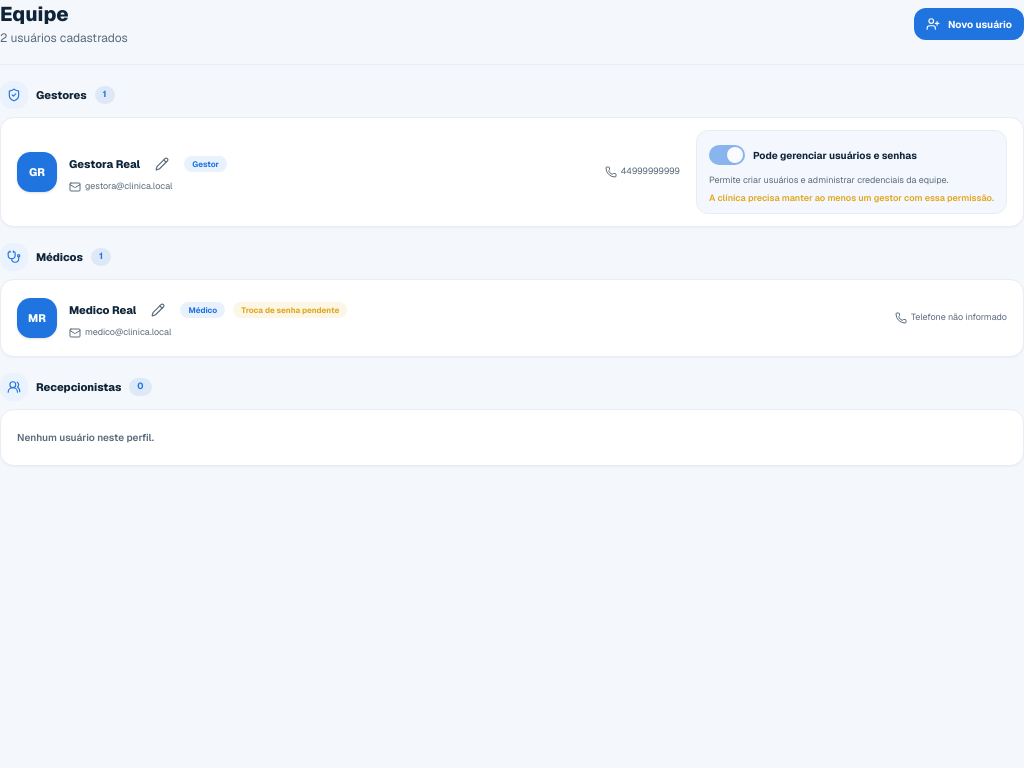
EquipeClient › should_edit_name_with_only_the_name_in_payload_and_without_reload
The width and height of the screenshot is (1024, 768).
Click the button named "Alterar nome de Medico Real".
click(158, 310)  # box 144,296 -> 172,324
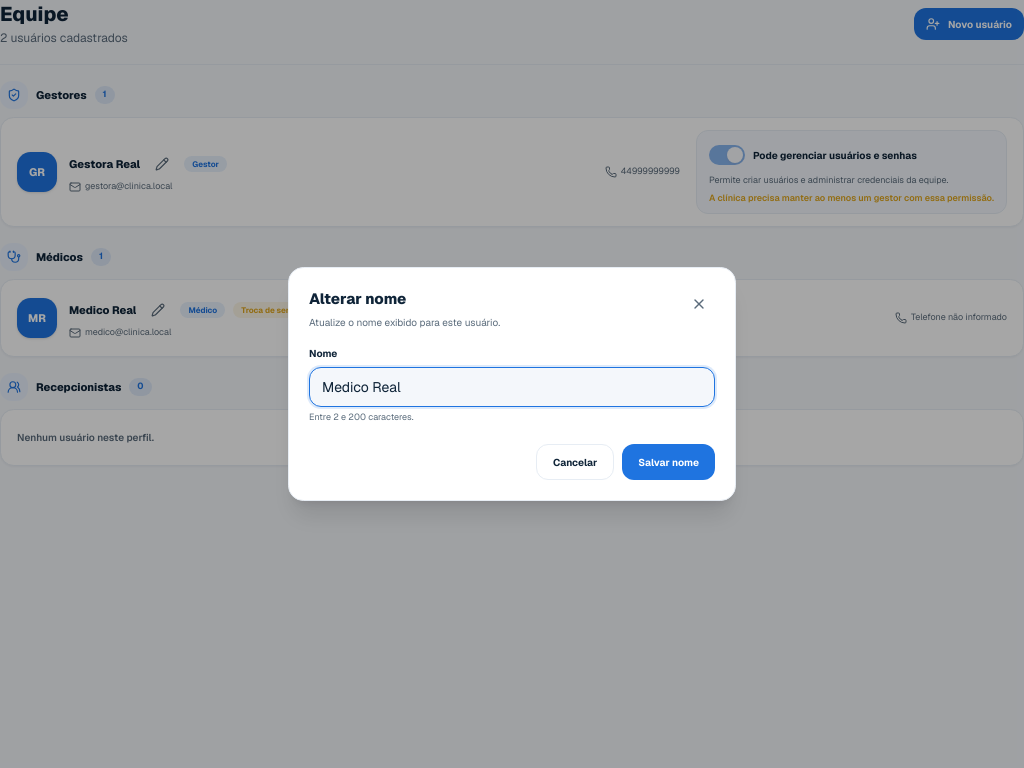
Replace the text in the field labelled "Nome" with "  Maria   D'Ávila-Souza  " at (512, 386), box 309,366 -> 715,406
Then press Enter
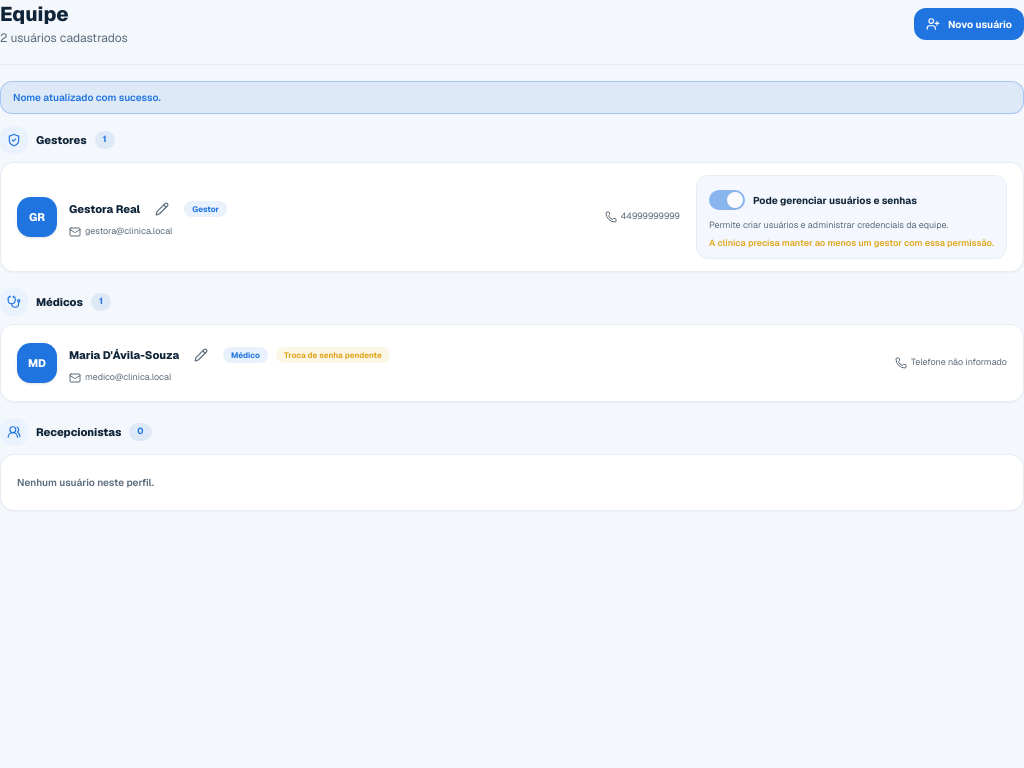
Check: the heading "Maria D'Ávila-Souza" is shown, box 69,347 -> 179,364
Check: the message reads "Nome atualizado com sucesso.", box 13,91 -> 161,104
Check: the heading "Alterar nome" is gone
